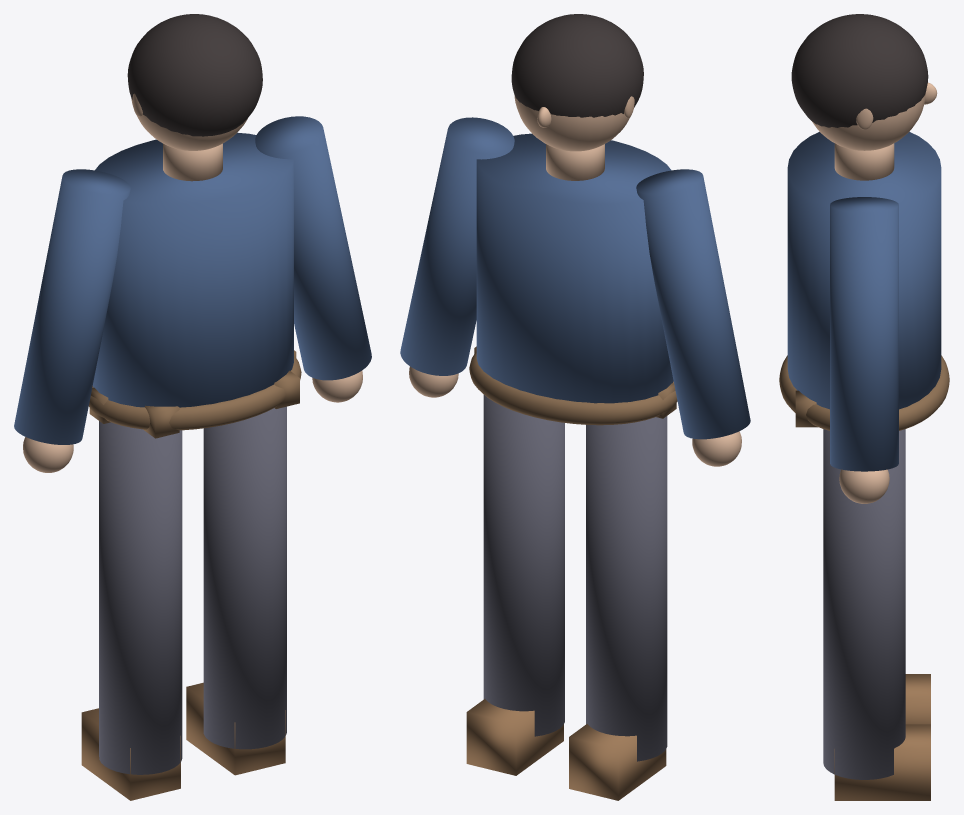
The model's file is realistic_explorer.glb.
The picture shows the model from 3 angles, left to right: view 1: azimuth 30°, elevation 25°; view 2: azimuth 150°, elevation 25°; view 3: azimuth 270°, elevation 25°; orthographic projection. The views are drawn at different scales.
Parts seen in each view (by area): view 1: Jacket, Trousers_L, Trousers_R, Cylinder.001, Cylinder.002, Hair, Belt, Boots_R, Boots_L, Cylinder, Head, Sphere.003 (+2 smaller); view 2: Jacket, Trousers_L, Trousers_R, Cylinder.001, Cylinder.002, Hair, Boots_R, Boots_L, Belt, Head, Cylinder, Sphere.003 (+1 smaller); view 3: Trousers_R, Jacket, Cylinder.002, Hair, Boots_R, Head, Belt, Cylinder, Sphere.004, Boots_L, Cube.003.
Boxes of the visible parts, x1,y1,x2,y2 form: Jacket: [92, 132, 293, 407]; Trousers_L: [99, 421, 182, 774]; Trousers_R: [203, 406, 286, 749]; Cylinder.001: [14, 169, 130, 444]; Cylinder.002: [255, 116, 371, 380]; Hair: [127, 14, 262, 136]; Belt: [89, 357, 301, 430]; Boots_R: [186, 682, 285, 775]; Boots_L: [81, 708, 180, 800]; Cylinder: [163, 143, 222, 181]; Head: [131, 98, 247, 150]; Sphere.003: [23, 437, 73, 472]; Jacket: [476, 133, 673, 403]; Trousers_L: [586, 416, 667, 761]; Trousers_R: [483, 395, 564, 736]; Cylinder.001: [636, 169, 750, 439]; Cylinder.002: [400, 117, 514, 375]; Hair: [511, 14, 643, 117]; Boots_R: [466, 699, 563, 775]; Boots_L: [569, 724, 666, 800]; Belt: [469, 353, 677, 425]; Head: [514, 95, 630, 151]; Cylinder: [546, 144, 604, 180]; Sphere.003: [692, 431, 741, 466]; Trousers_R: [823, 429, 905, 779]; Jacket: [787, 132, 941, 409]; Cylinder.002: [830, 197, 898, 471]; Hair: [791, 14, 928, 127]; Boots_R: [834, 724, 930, 800]; Head: [812, 94, 925, 150]; Belt: [779, 355, 949, 430]; Cylinder: [834, 143, 894, 180]; Sphere.004: [839, 469, 889, 503]; Boots_L: [905, 674, 930, 724]; Cube.003: [795, 390, 817, 427].
Size of the model in its own units: 0.8673 by 1.79 by 0.372.
